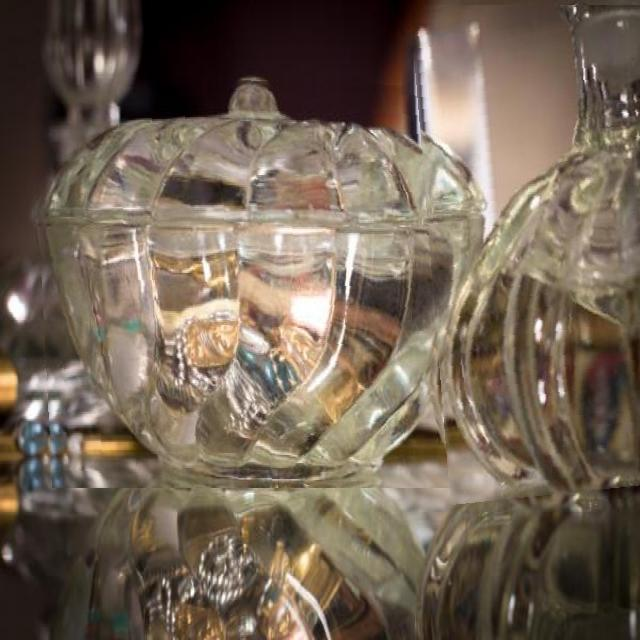Glass: (31, 74, 473, 488), (410, 5, 640, 505)
